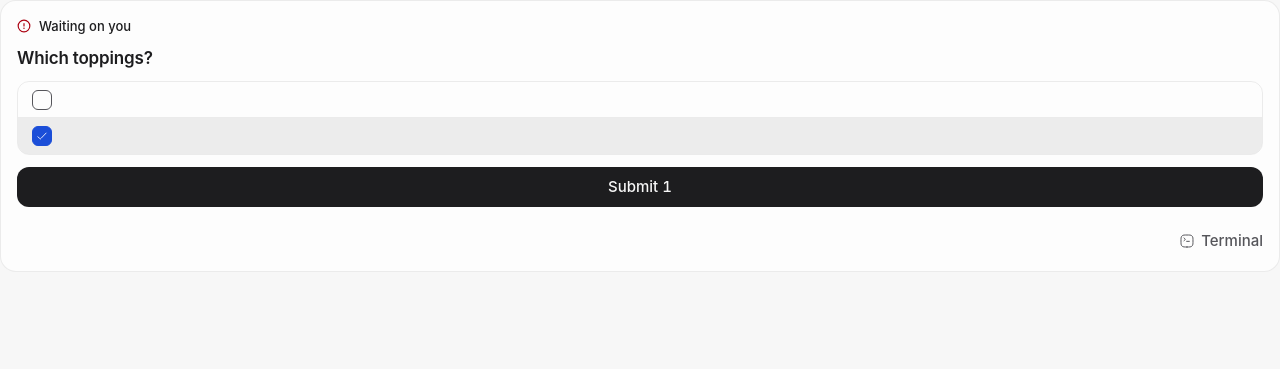
Scenario: QuestionCard › a Submit the terminal never reached says so, and offers to try again beside the card's one way to the terminal
Click the button "Submit 1" at (640, 187), box 17,167 -> 1263,207
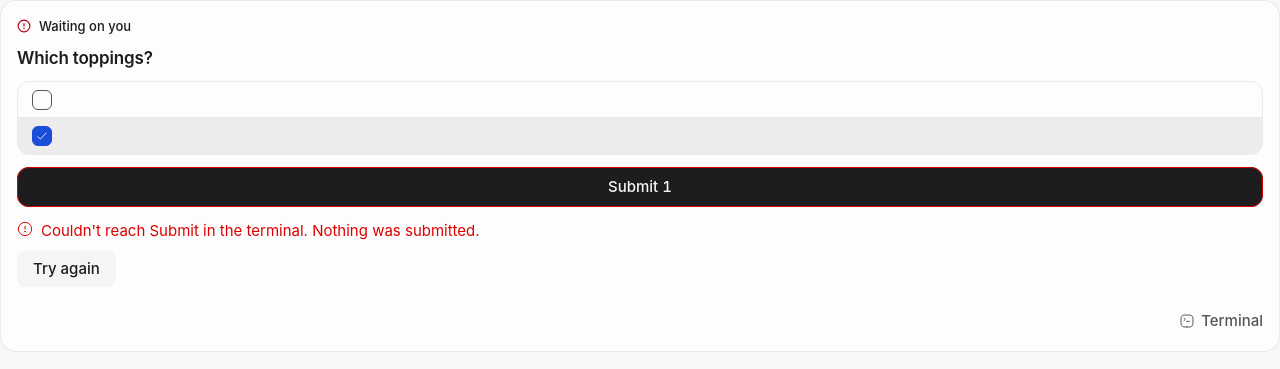
Check: the message reads "Couldn't reach Submit in the terminal. Nothing was submitted.", box 41,221 -> 480,240
Check: the number of buttons "Terminal" is 1
Click the button "Terminal" at (1221, 321), box 1171,299 -> 1271,343
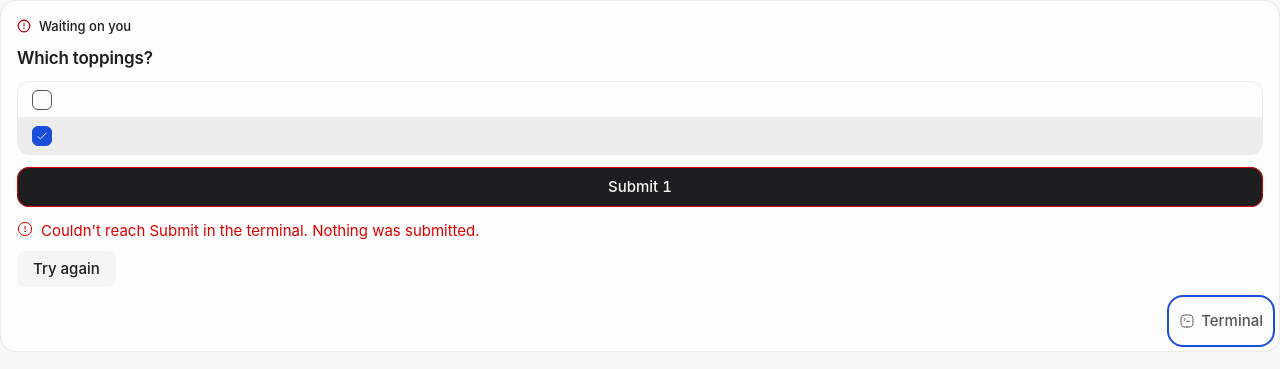
Click the button "Try again" at (66, 269), box 17,251 -> 116,287
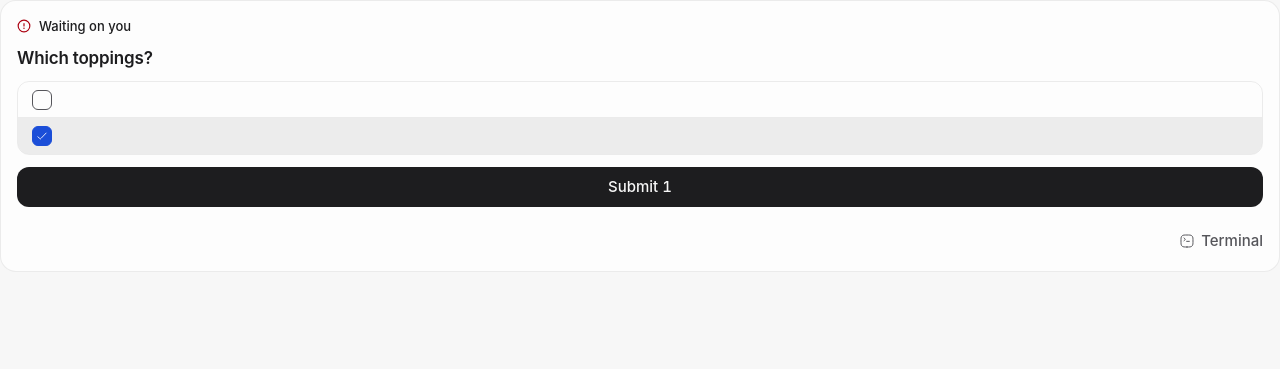
Check: the message "Couldn't reach Submit in the terminal. Nothing was submitted." is gone
